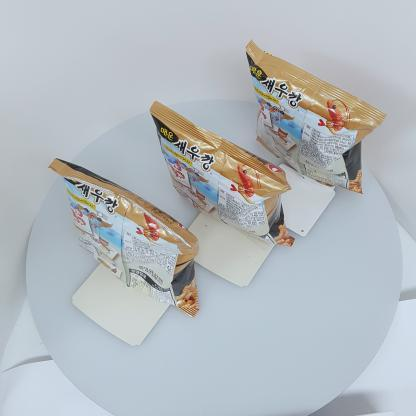Plastic Packaging: (41, 159, 202, 321), (247, 43, 385, 191), (152, 102, 290, 244)
